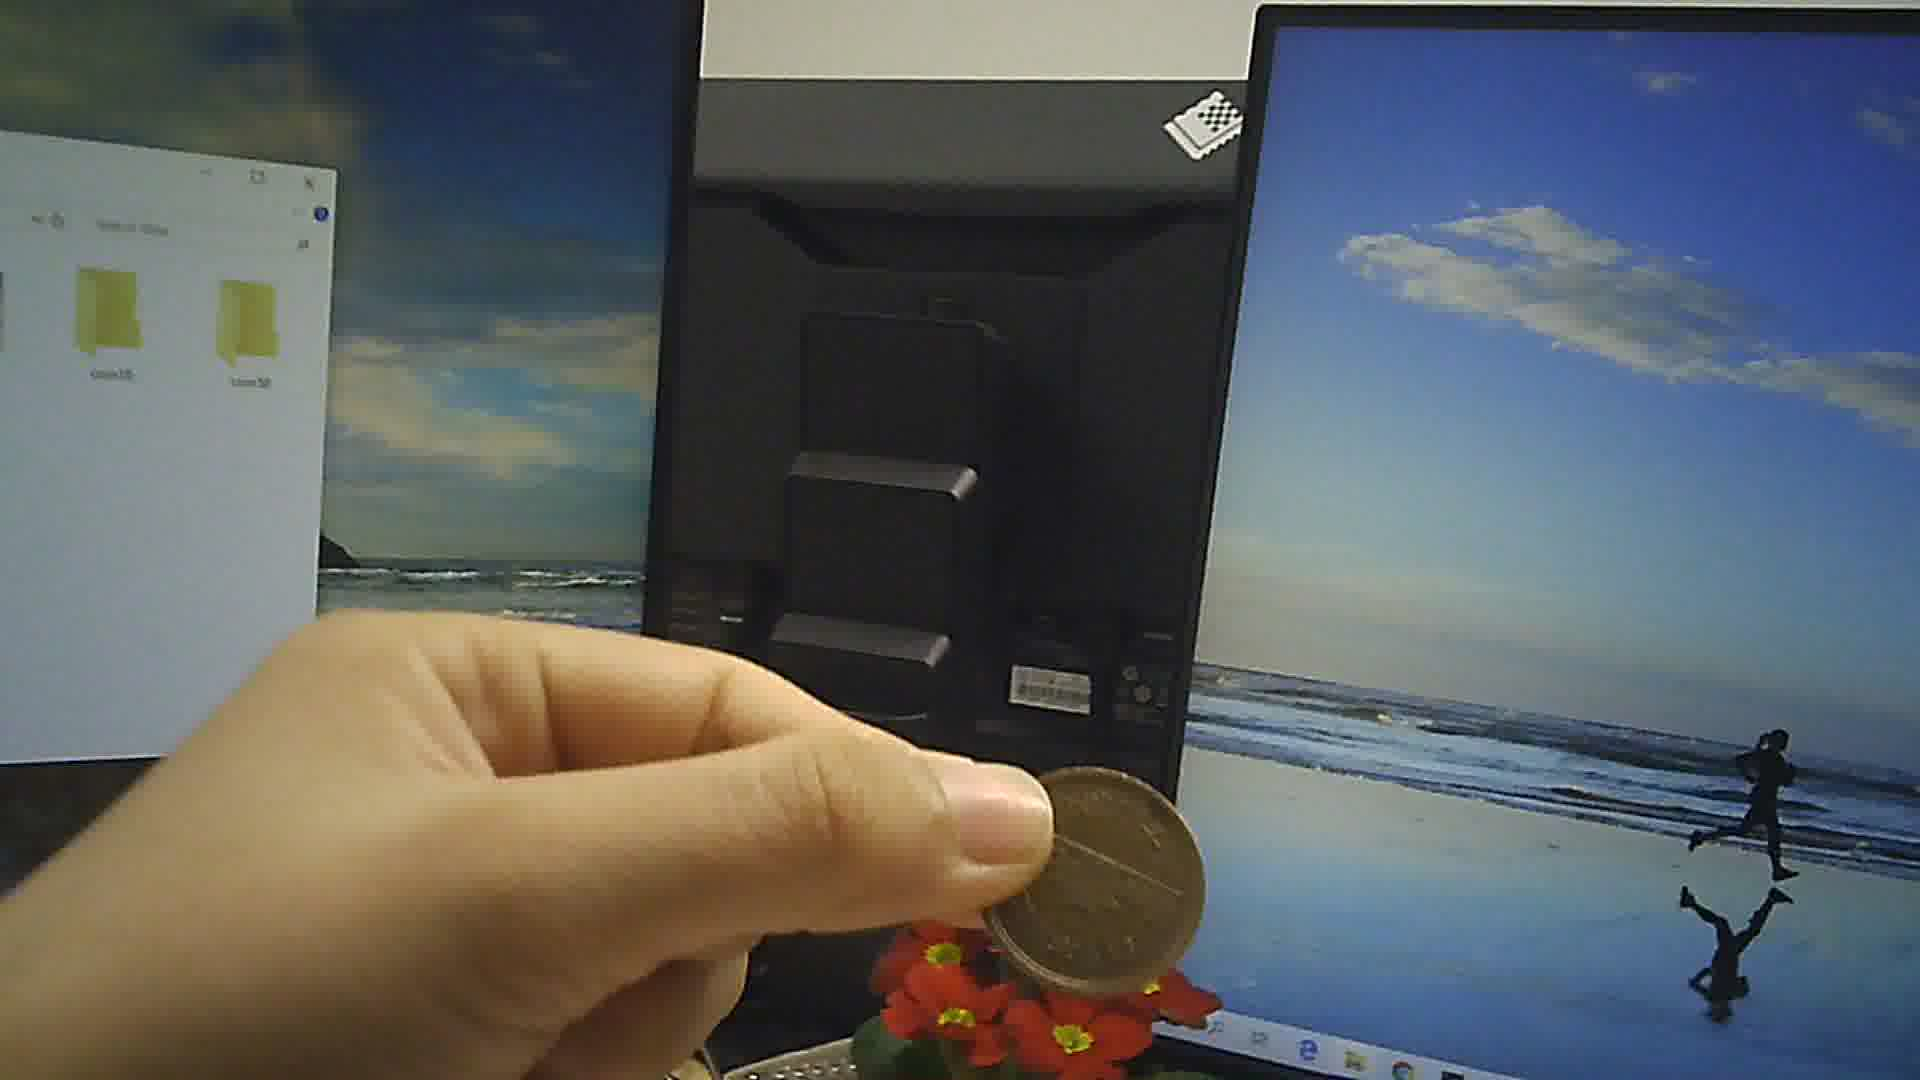10 Yen: (986, 760, 1220, 992)
